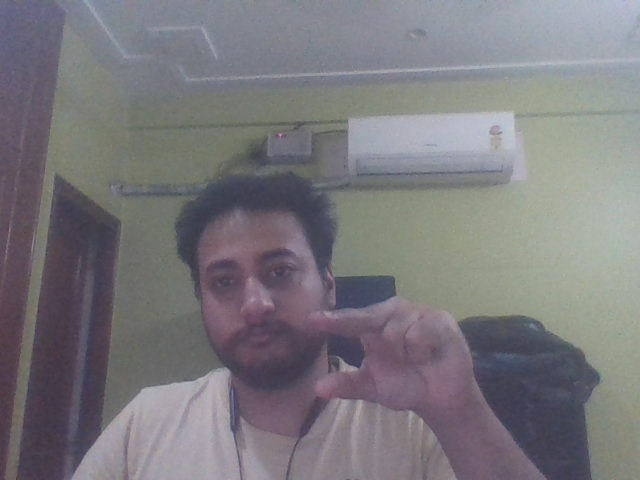No: (302, 282, 515, 440)
